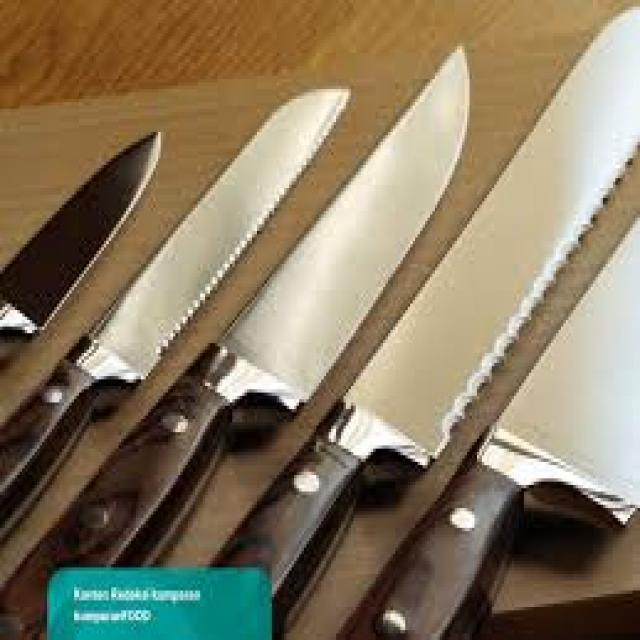knife: (9, 16, 513, 640)
